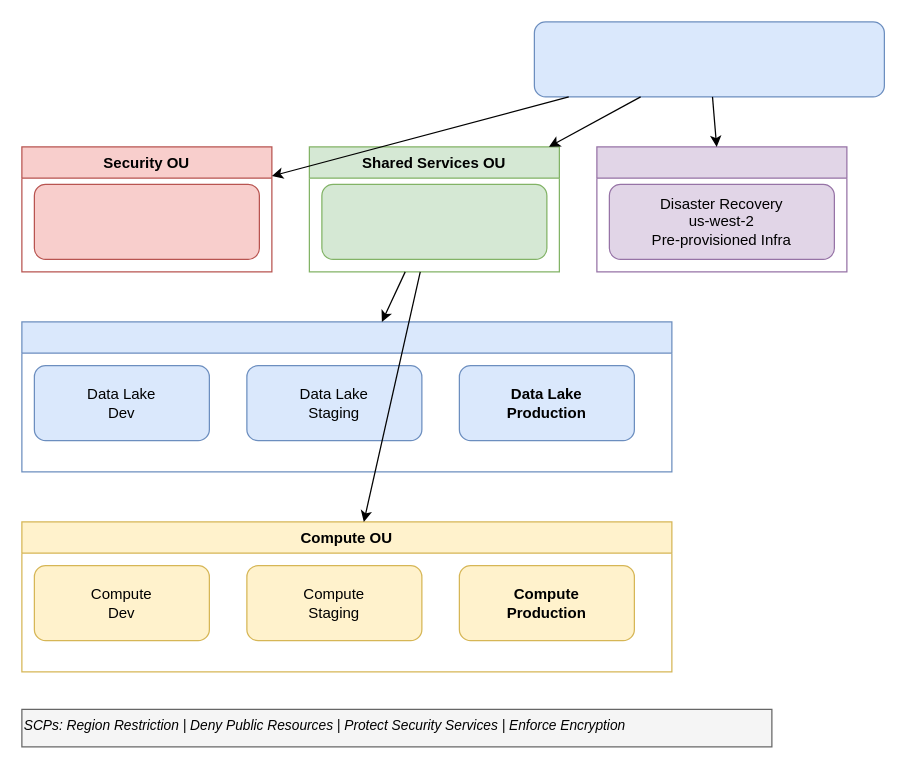
Some shapes in this 906 by 769 pixel diagram are drawn without their labels. The shapes that lost their labels are listed below. From the top down, each one's box as (x1, y1, x2, y2) in pixels, then its label:
(533, 21, 884, 97): Management Account Organizations | SSO | Billing
(33, 183, 259, 259): Security & Audit CloudTrail | GuardDuty Config | SecurityHub
(321, 183, 547, 259): Shared Services Transit Gateway | DNS ECR | NAT Gateway
(596, 146, 847, 272): DR OU
(21, 321, 672, 472): Data Lake OU
